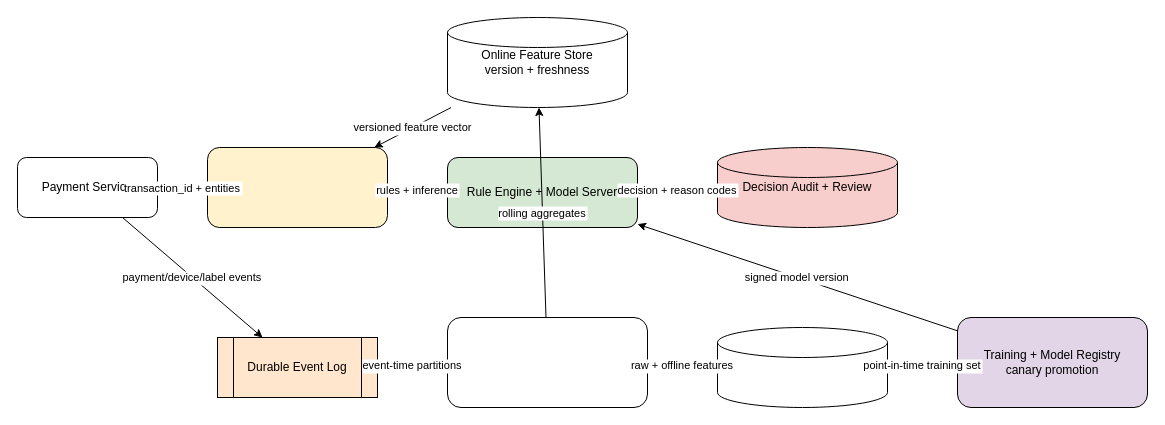
Image size: 1165x425. Some labels were removed from this diagram. Here are the shapes that lost their labels. From the top down, the centre of each, then its label:
At pixel 297 187: "Decision Gateway latency budget + fallback".
At pixel 547 362: "Velocity Stream Processor watermarks + keyed state".
At pixel 802 367: "Offline Feature Lake".
